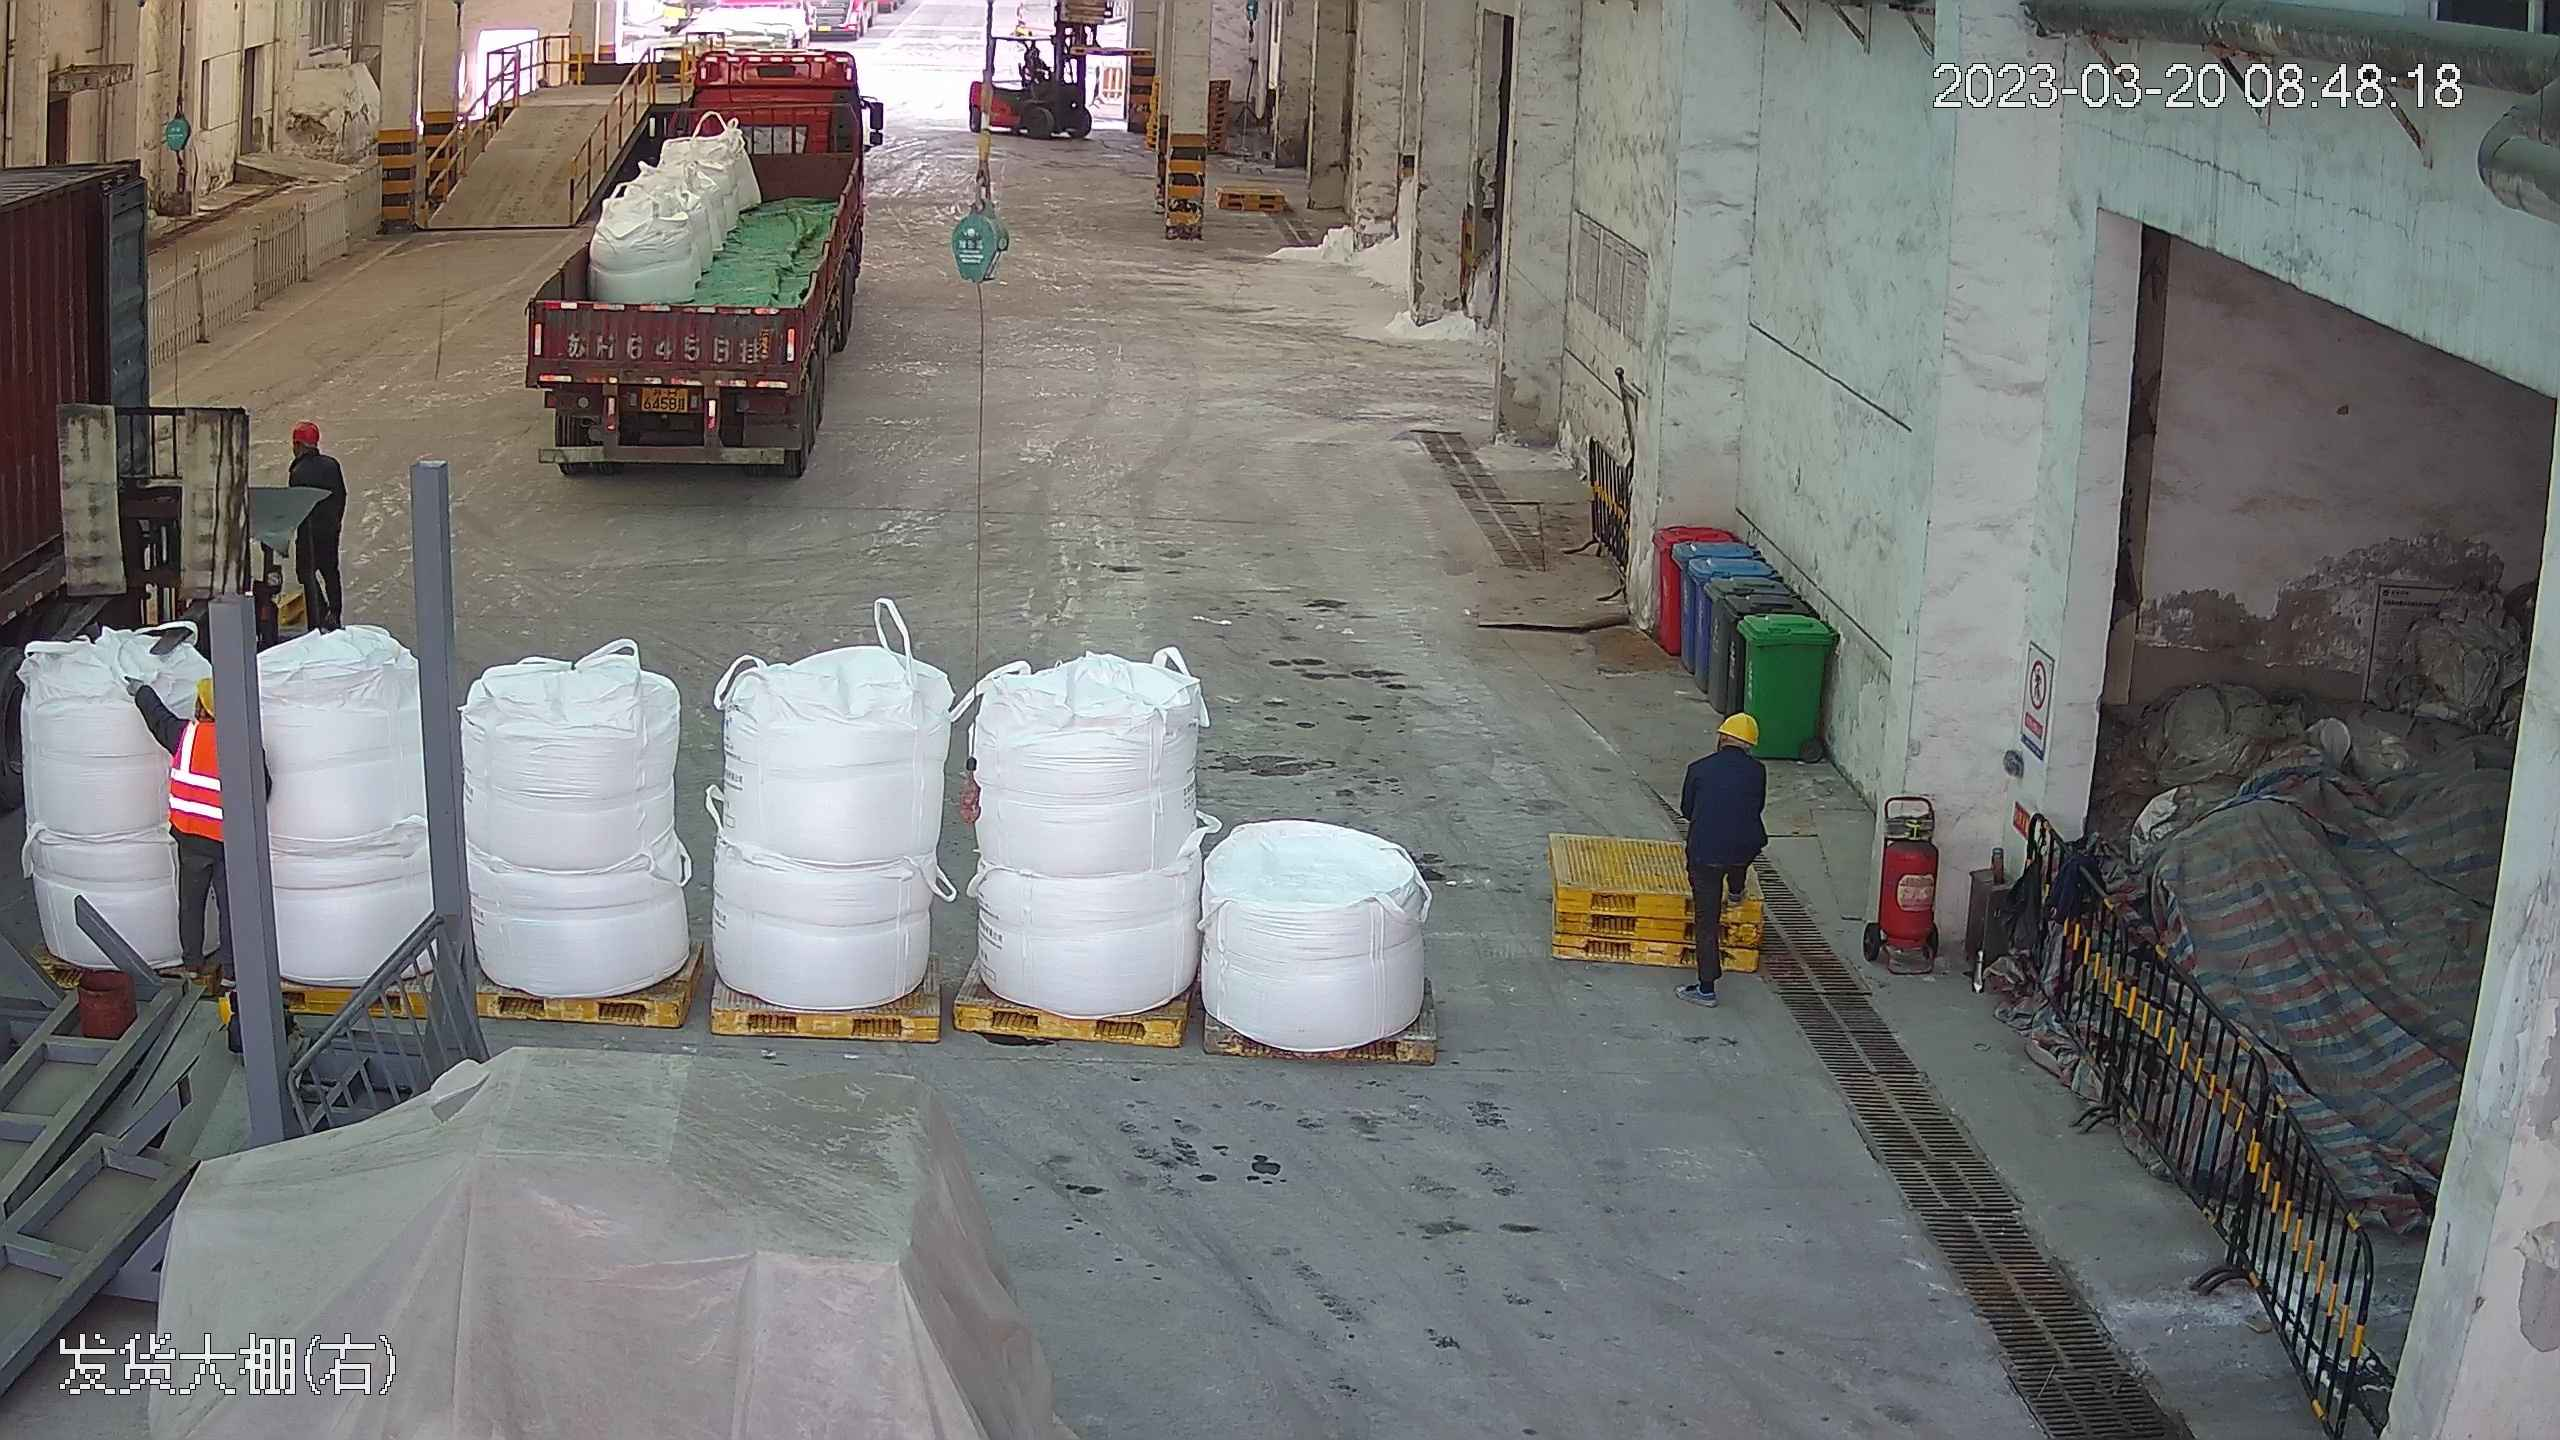head: (1687, 710, 1769, 796), (283, 414, 342, 486)
helmet: (1691, 709, 1766, 788), (1717, 709, 1762, 745), (287, 414, 323, 444)
people: (1673, 705, 1774, 1002), (282, 412, 350, 637)
truck: (512, 23, 873, 483)
